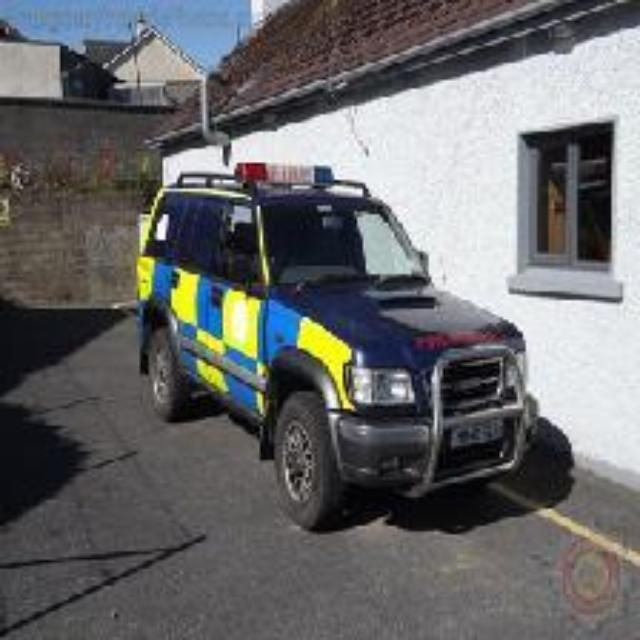emergency: (143, 148, 534, 524)
